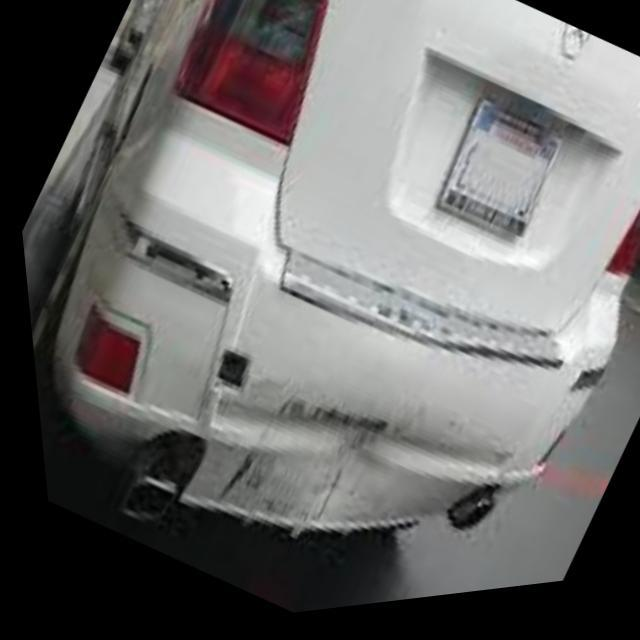dent: (191, 343, 458, 540)
